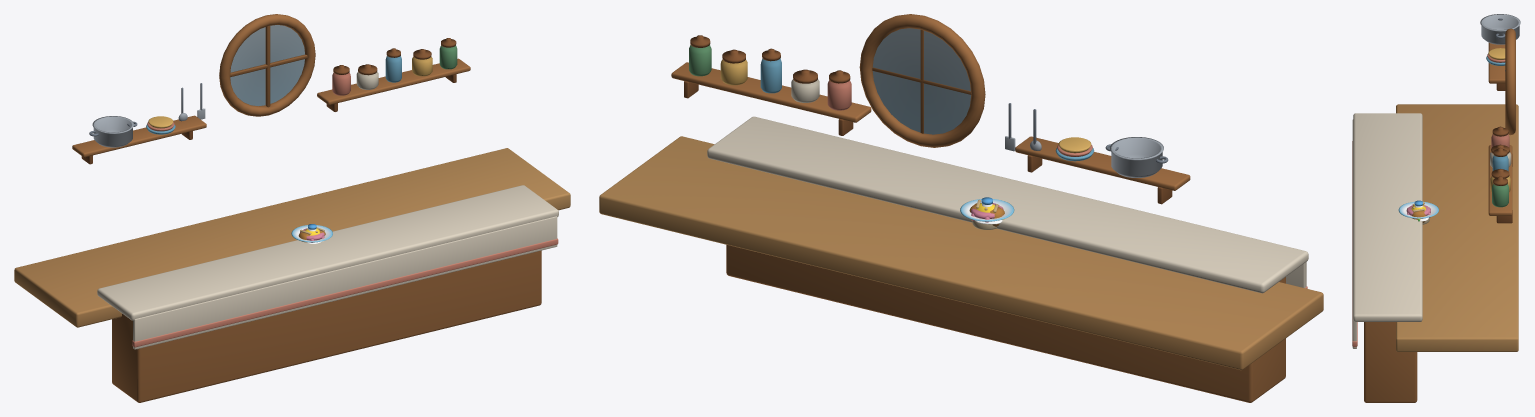
Rendered from food.glb.
The picture shows the model from 3 angles, left to right: view 1: azimuth 30°, elevation 25°; view 2: azimuth 150°, elevation 25°; view 3: azimuth 270°, elevation 25°; orthographic projection. The views are drawn at different scales.
Visible parts, largest first — view 1: kitchen; view 2: kitchen; view 3: kitchen, plate.
Part boxes in pixels (x1,y1,x2,y2): kitchen: (14,14,570,402); kitchen: (599,14,1323,402); kitchen: (1352,14,1520,402); plate: (1398,201,1438,218).
Size of the model in its own units: 10.4 by 5.7 by 3.16.
